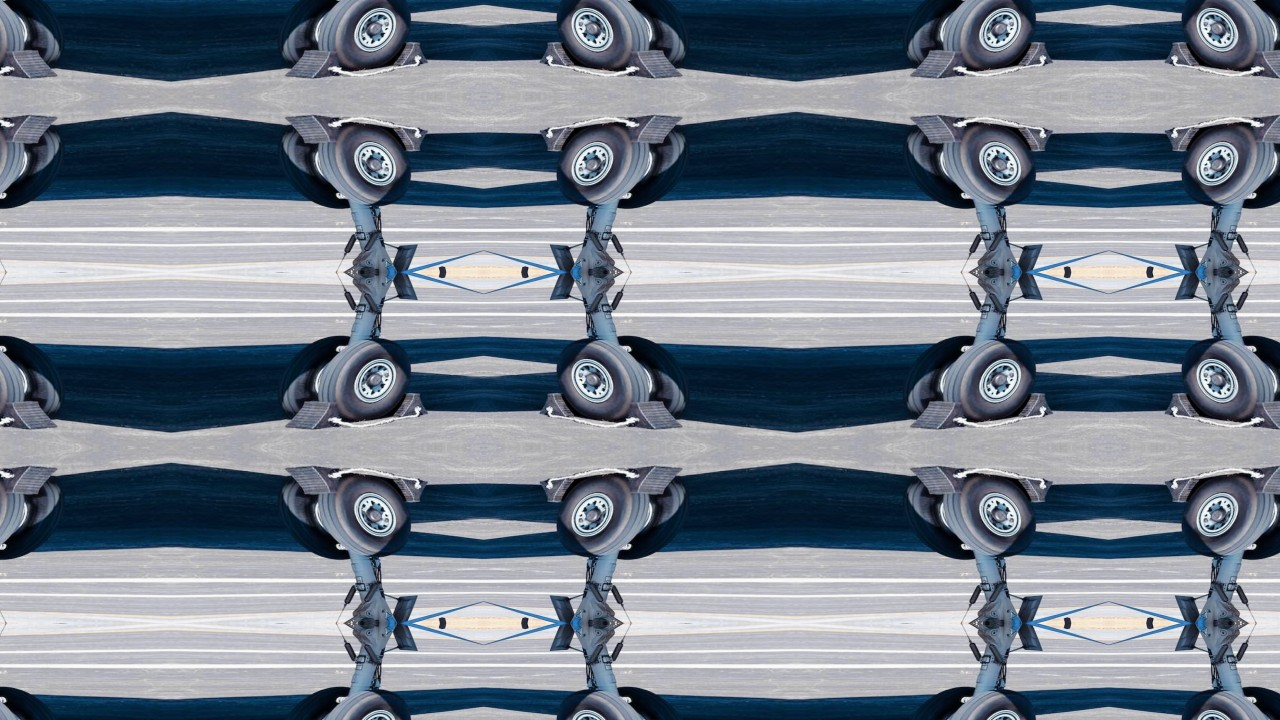chock: (281, 45, 347, 82), (620, 45, 686, 82), (907, 45, 973, 82), (281, 110, 347, 147), (620, 110, 686, 147), (907, 110, 973, 147), (281, 397, 347, 434), (620, 397, 686, 434), (907, 397, 973, 434), (281, 462, 347, 499), (620, 462, 686, 499), (907, 462, 973, 499), (0, 45, 60, 82), (0, 110, 60, 147), (0, 397, 60, 434), (0, 462, 60, 499), (382, 39, 431, 69), (536, 39, 585, 69), (1008, 39, 1057, 69), (1162, 39, 1211, 69), (382, 123, 431, 153), (536, 123, 585, 153), (1008, 123, 1057, 153), (1162, 123, 1211, 153), (382, 391, 431, 421), (536, 391, 585, 421), (1008, 391, 1057, 421), (1162, 391, 1211, 421), (382, 475, 431, 505), (536, 475, 585, 505), (1008, 475, 1057, 505), (1162, 475, 1211, 505), (1246, 45, 1280, 82), (1246, 110, 1280, 147), (1246, 397, 1280, 434), (1246, 462, 1280, 499)
wheel: (313, 120, 414, 205), (553, 120, 654, 205), (939, 120, 1040, 205), (1179, 120, 1280, 205), (313, 339, 414, 424), (553, 339, 654, 424), (939, 339, 1040, 424), (1179, 339, 1280, 424), (313, 472, 414, 557), (553, 472, 654, 557), (939, 472, 1040, 557), (1179, 472, 1280, 557), (313, 0, 414, 72), (553, 0, 654, 72), (939, 0, 1040, 72), (1179, 0, 1280, 72), (266, 125, 350, 209), (617, 125, 701, 209), (892, 125, 976, 209), (266, 335, 350, 419), (617, 335, 701, 419), (892, 335, 976, 419), (266, 477, 350, 561), (617, 477, 701, 561), (892, 477, 976, 561), (0, 125, 75, 209), (0, 335, 75, 419), (0, 477, 75, 561), (266, 0, 350, 67), (617, 0, 701, 67), (892, 0, 976, 67), (0, 0, 75, 67), (1243, 125, 1280, 209), (1243, 335, 1280, 419), (1243, 477, 1280, 561), (313, 691, 414, 720), (553, 691, 654, 720), (939, 691, 1040, 720), (1179, 691, 1280, 720), (266, 687, 350, 720), (617, 687, 701, 720), (892, 687, 976, 720), (1243, 0, 1280, 67), (0, 687, 75, 720), (0, 120, 28, 205), (0, 339, 28, 424), (0, 472, 28, 557), (0, 0, 28, 72), (1243, 687, 1280, 720)
